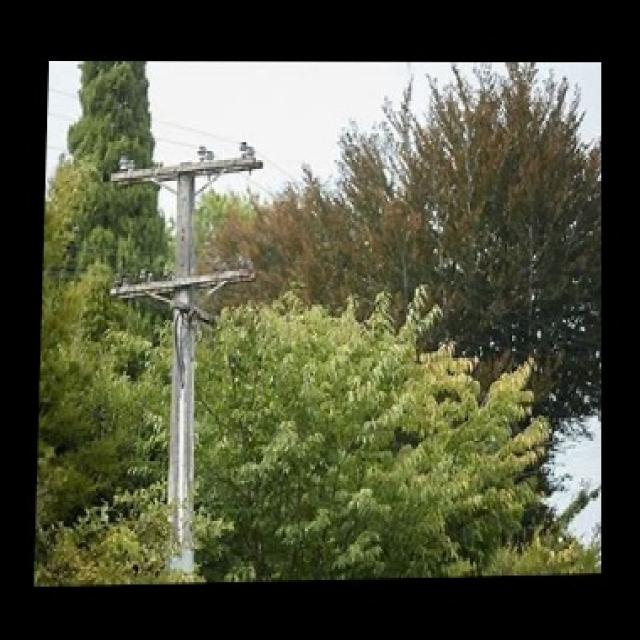utility poles: (99, 131, 256, 583)
